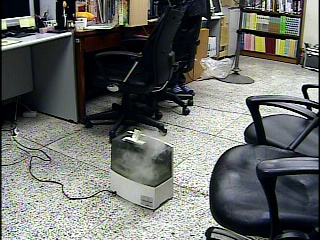smoke: (116, 124, 171, 183)
